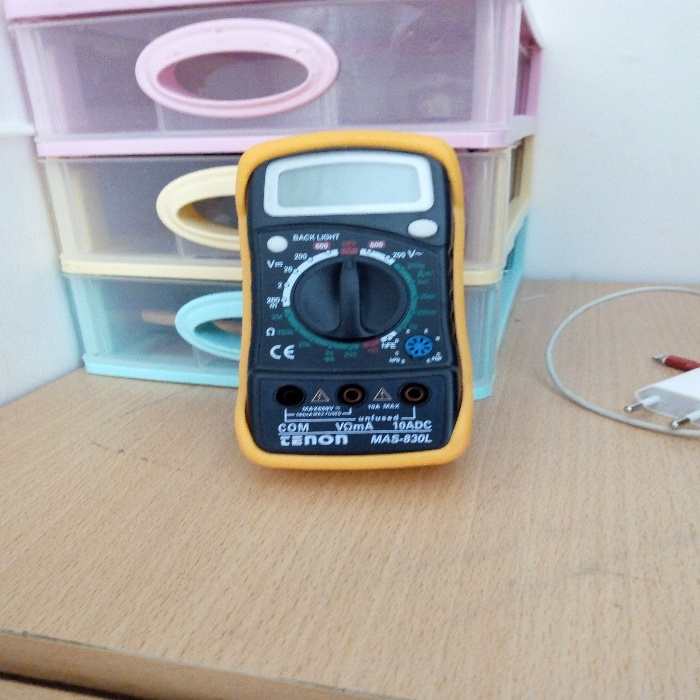multimetre: (216, 110, 483, 473)
